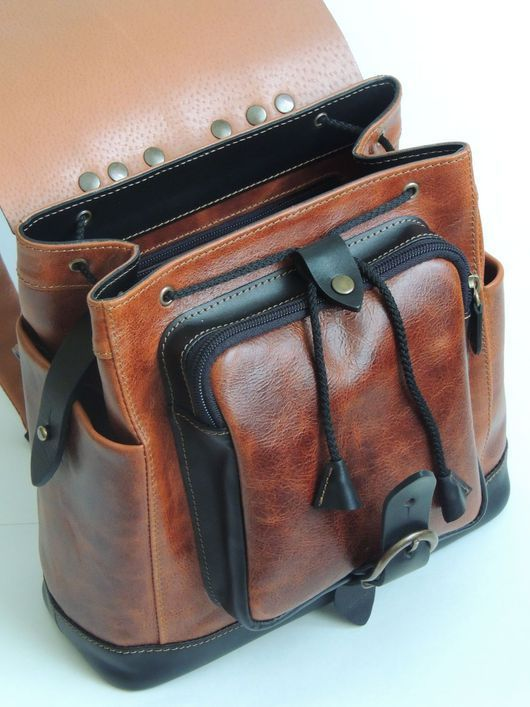cuero: (1, 1, 511, 689)
